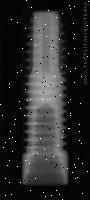Keystone Dental: (20, 9, 69, 186)
